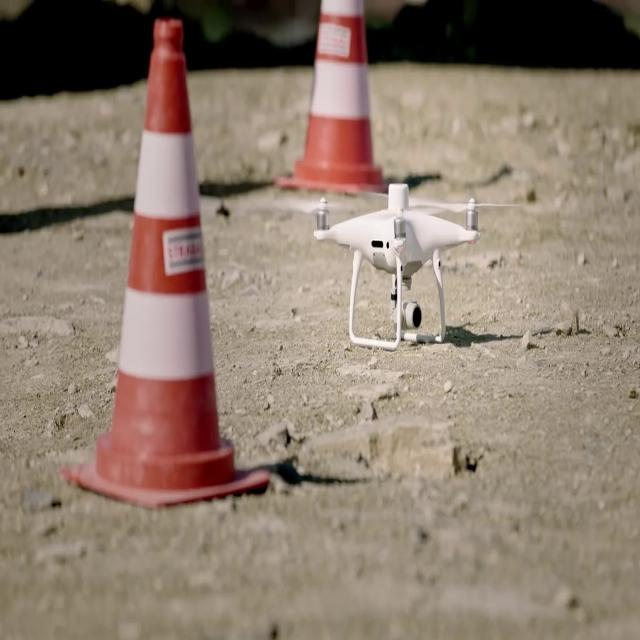drone: (278, 178, 526, 354)
